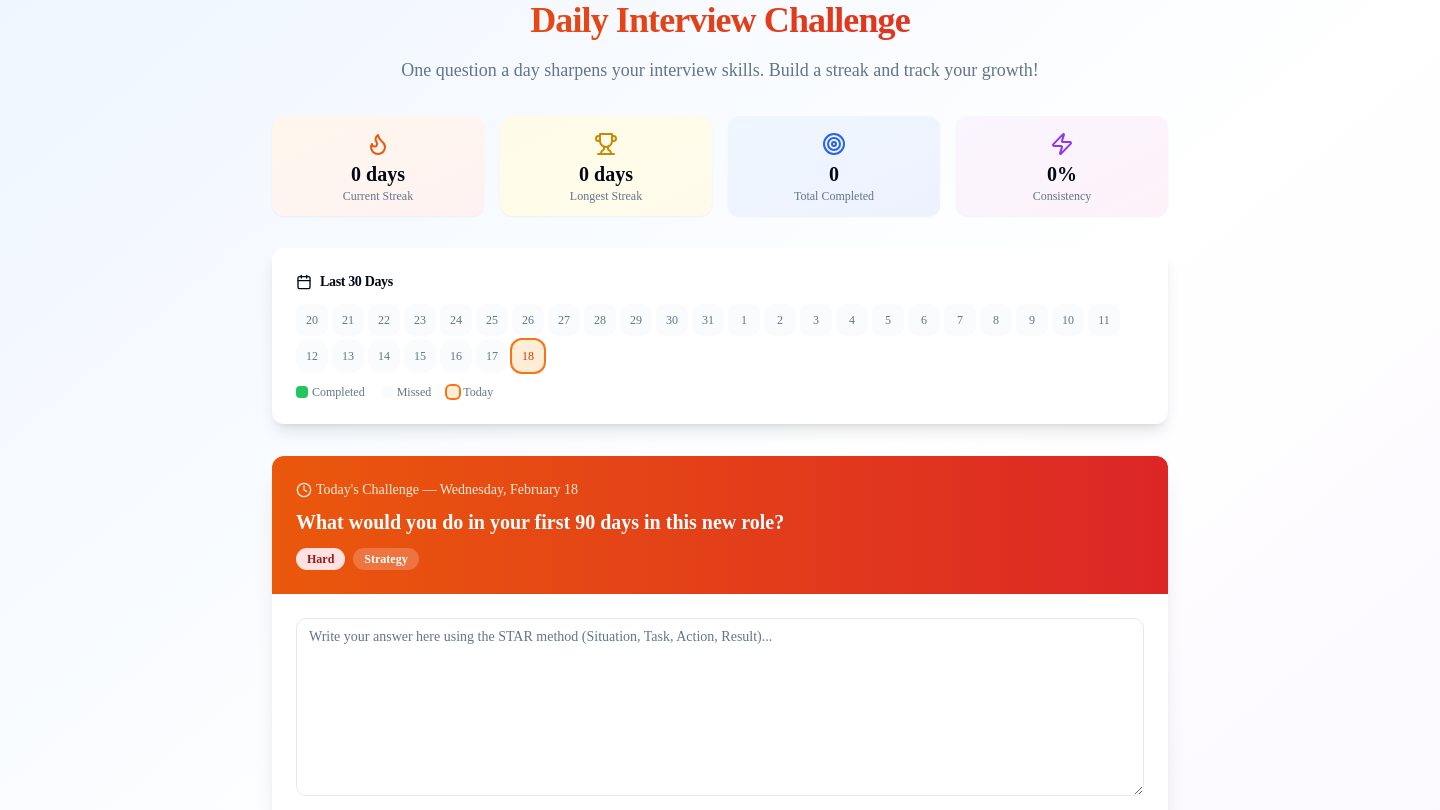
Test: DailyChallengeClient › should update character count as user types
Replace the text in the text box with placeholder "STAR method" with "Hello world" at (720, 707), box top-left (296, 618), bottom-right (1144, 796)
(page scrolled)
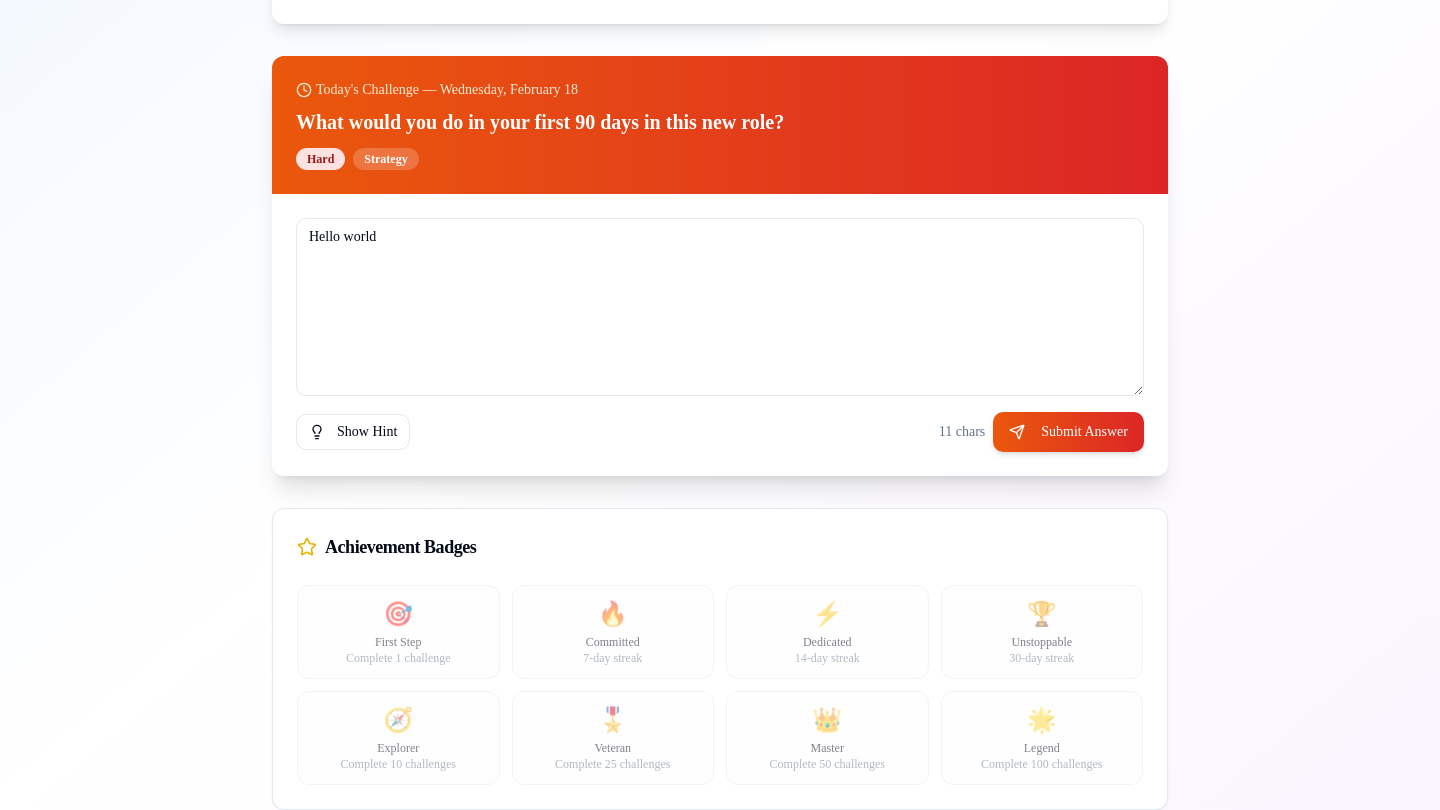
Expected: the text "11 chars" is shown, top-left (939, 422), bottom-right (985, 442)
